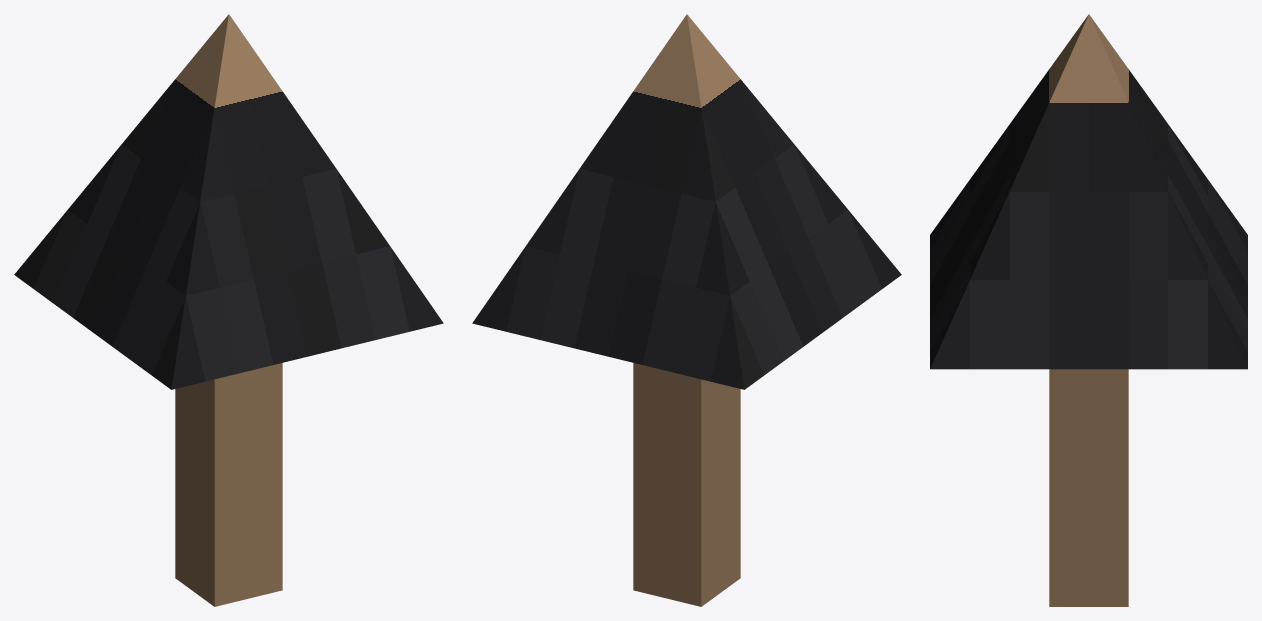
The model's file is black_umbrella_close_3d.obj.
The picture shows the model from 3 angles, left to right: view 1: azimuth 30°, elevation 25°; view 2: azimuth 150°, elevation 25°; view 3: azimuth 270°, elevation 25°; orthographic projection.
Parts seen in each view (by area): view 1: Cube; view 2: Cube; view 3: Cube.
Boxes of the visible parts, bbox=[...] form: Cube: bbox=[14, 14, 443, 606]; Cube: bbox=[472, 14, 901, 606]; Cube: bbox=[930, 14, 1247, 606].
Bounding box in the file's own units: 0.5 × 1 × 0.5.
